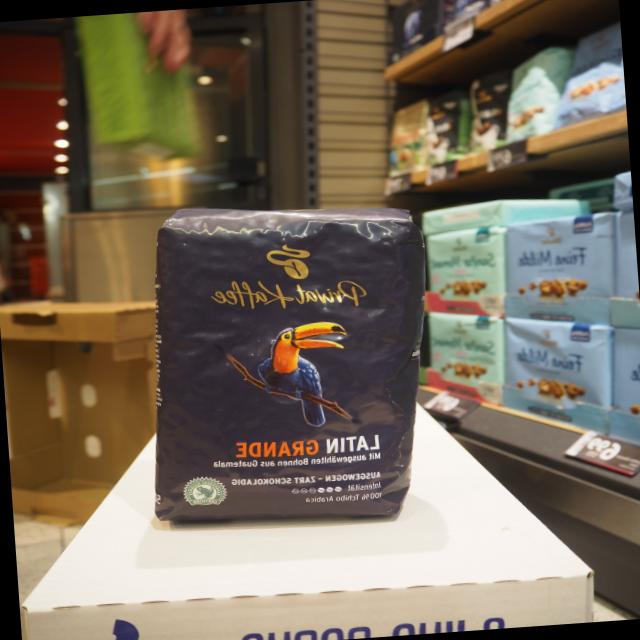LG Bohne: (143, 199, 448, 537)
